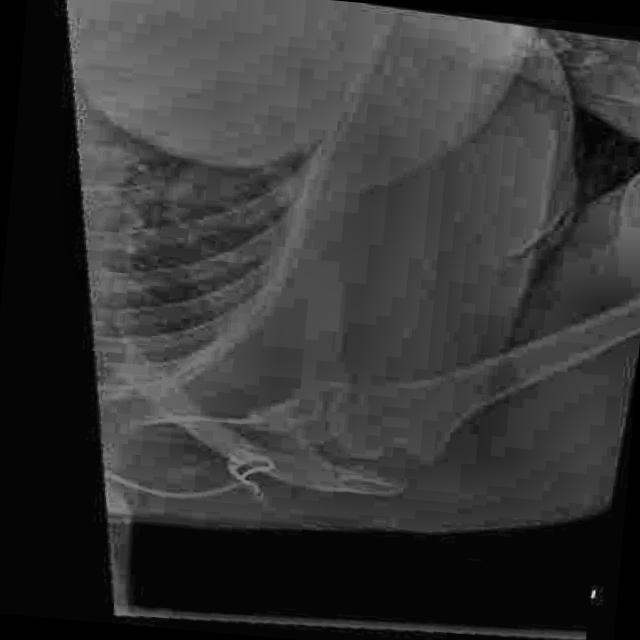shoulder fracture: (347, 425, 457, 481)
